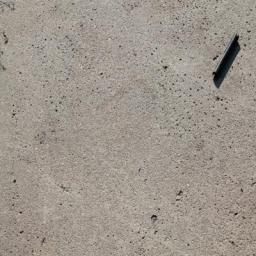FOD: (212, 28, 244, 90)
